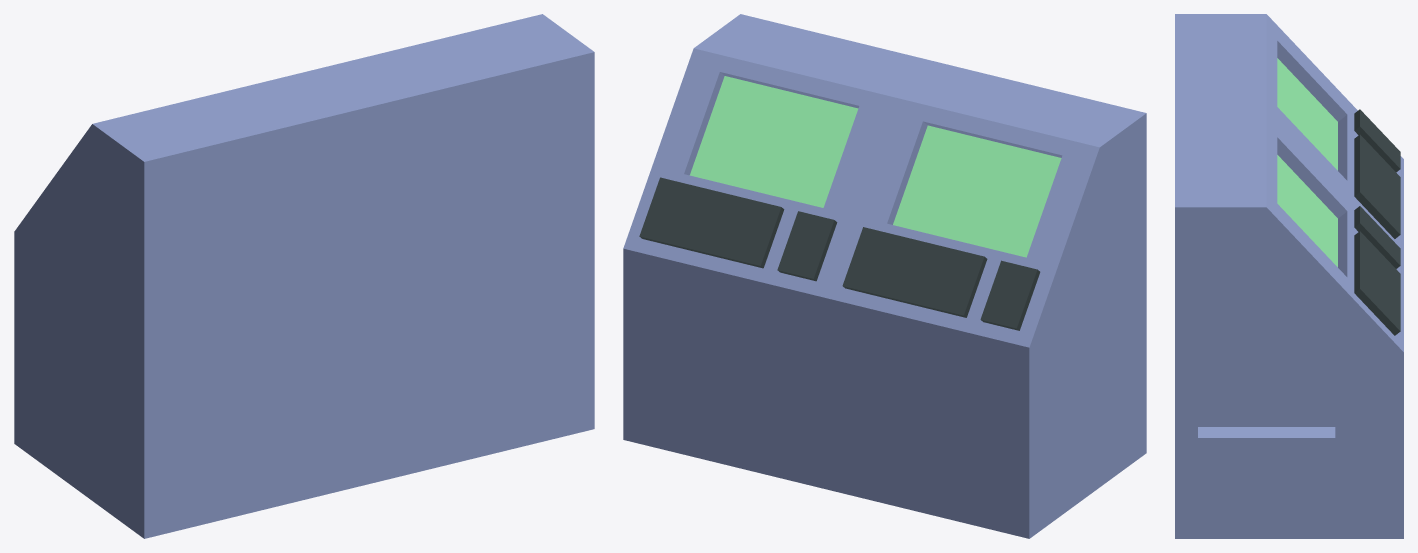
File: Computer.fbx
3 views of the same model, side by side, from view 1: azimuth 30°, elevation 25°; view 2: azimuth 150°, elevation 25°; view 3: azimuth 270°, elevation 25° (orthographic). The views are drawn at different scales.
Visible parts, largest first — view 1: Circle.012; view 2: Circle.012; view 3: Circle.012.
Boxes of the visible parts, x1=… form: Circle.012: x1=14, y1=14, x2=594, y2=538; Circle.012: x1=623, y1=14, x2=1146, y2=538; Circle.012: x1=1175, y1=14, x2=1403, y2=538.
Size of the model in its own units: 2.03 by 1.6 by 1.
